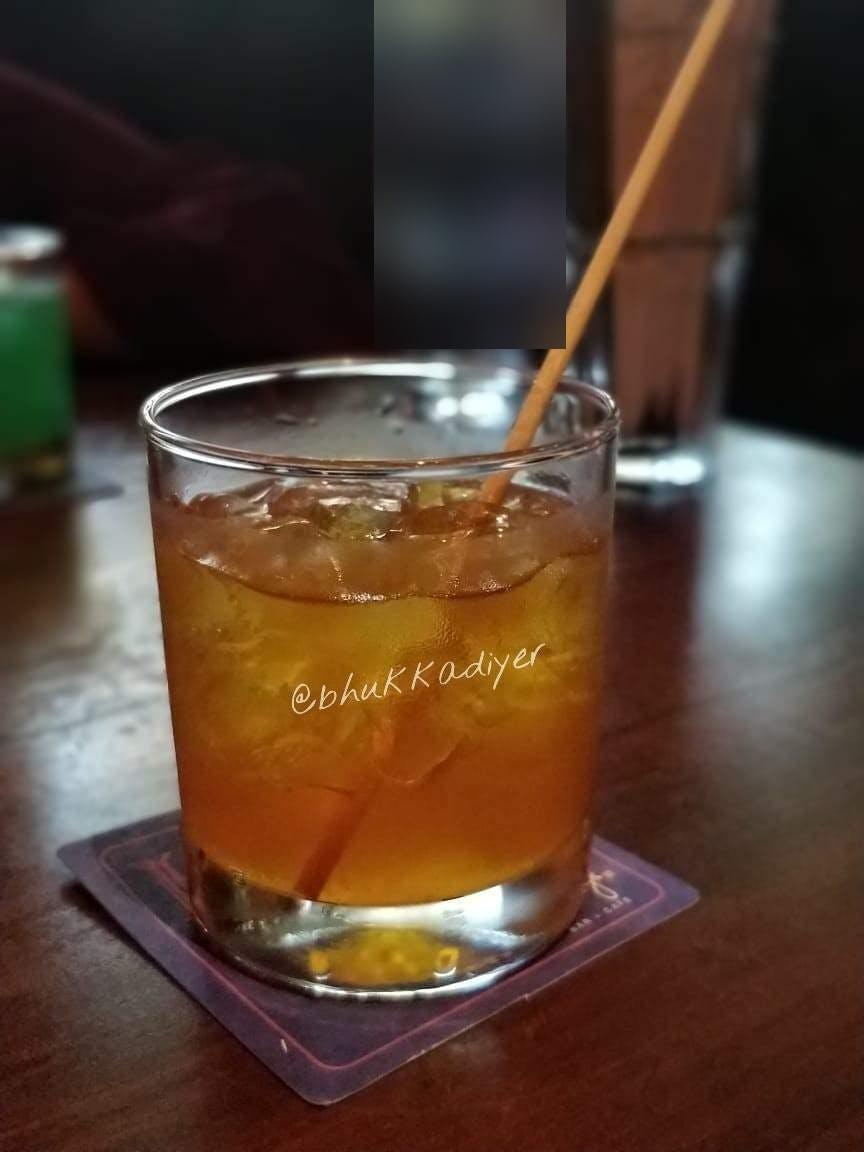glass-normal: (136, 356, 623, 1002)
